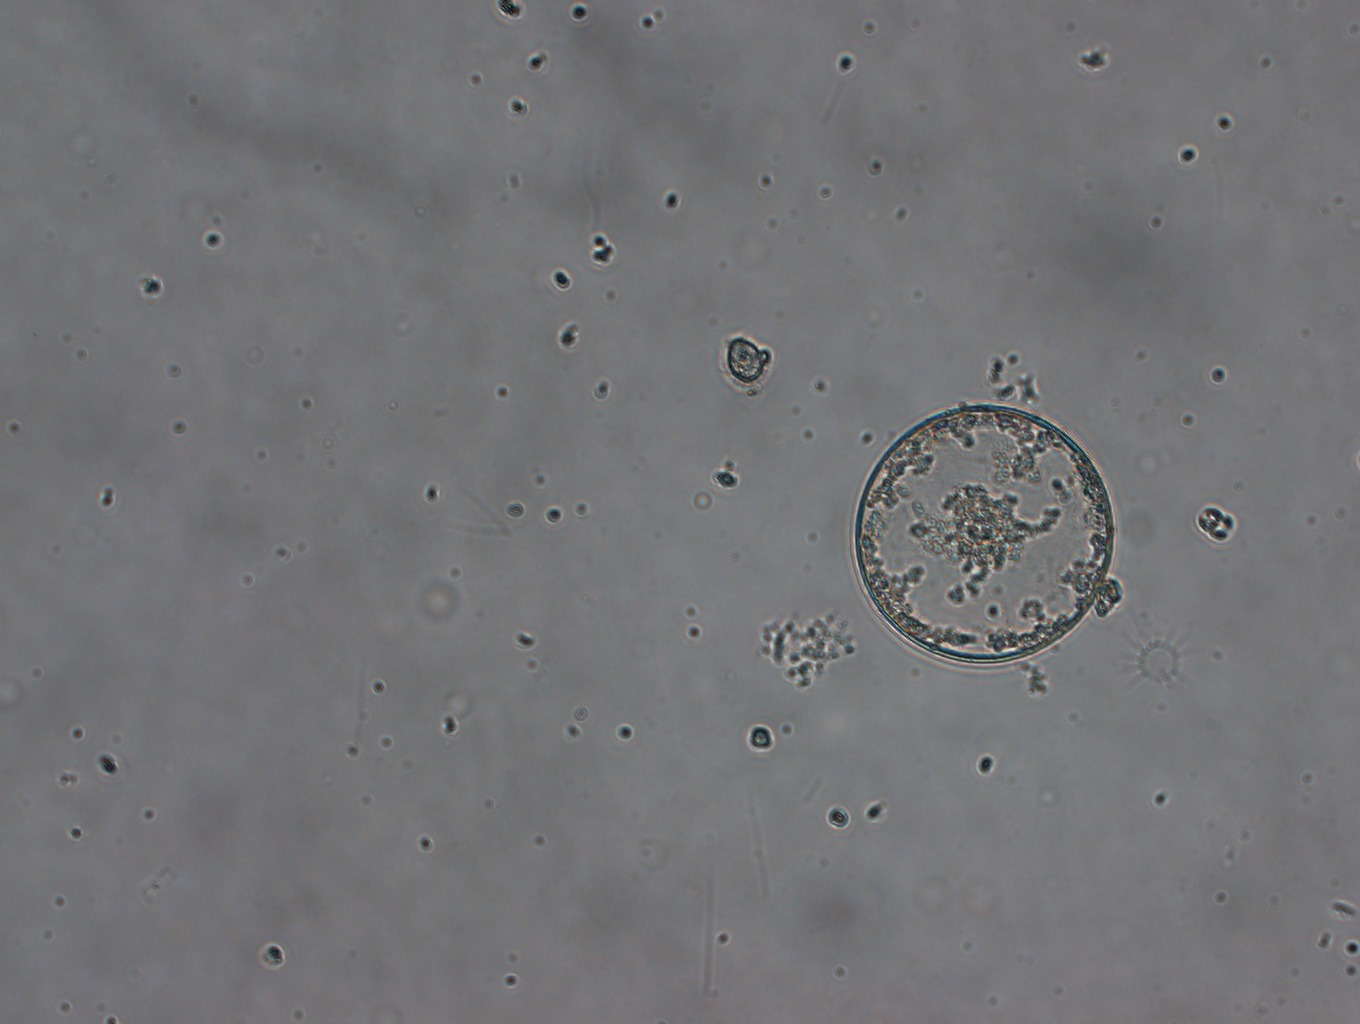coscinodiscus: (846, 403, 1115, 673)
